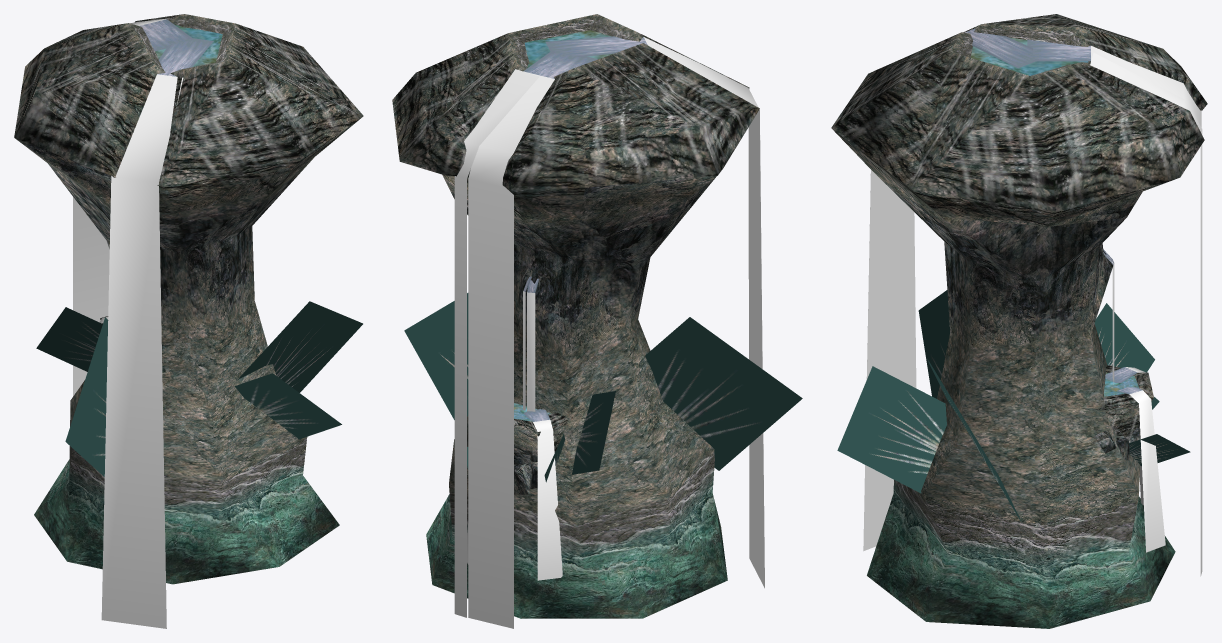
The model's file is rock_crystl_geyser_lrg_l3.fbx.
3 views of the same model, side by side, from view 1: azimuth 30°, elevation 25°; view 2: azimuth 150°, elevation 25°; view 3: azimuth 270°, elevation 25° (orthographic). The views are drawn at different scales.
Visible parts, largest first — view 1: mesh_node; view 2: mesh_node; view 3: mesh_node.
Boxes of the visible parts, x1=… form: mesh_node: x1=14, y1=14, x2=363, y2=628; mesh_node: x1=392, y1=14, x2=802, y2=628; mesh_node: x1=831, y1=14, x2=1207, y2=628.
Bounding box in the file's own units: 25.24 × 37.17 × 22.81.
